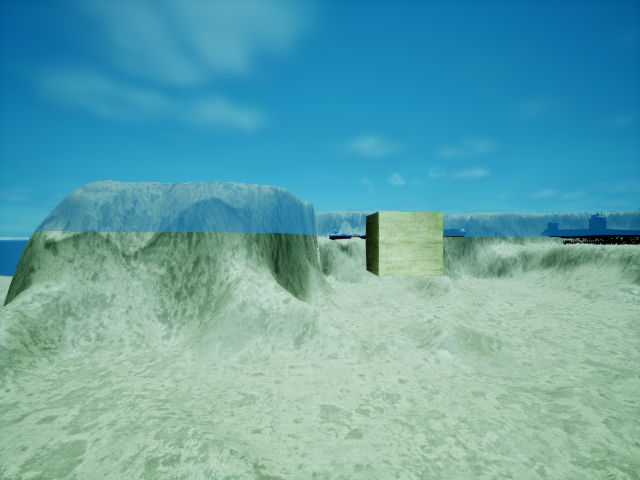Cube: (359, 196, 443, 285)
